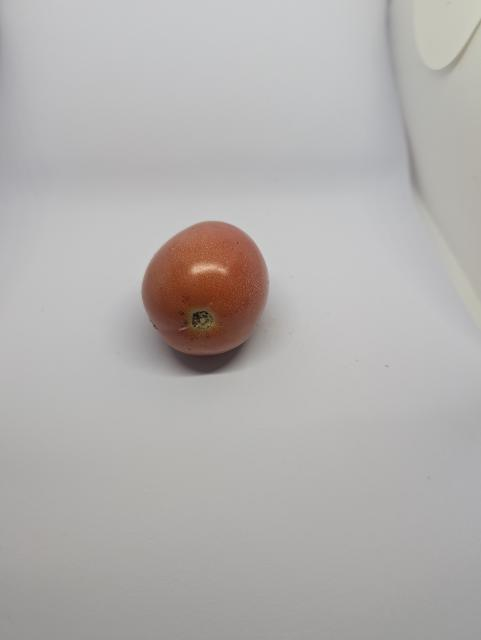red: (130, 207, 298, 366)
